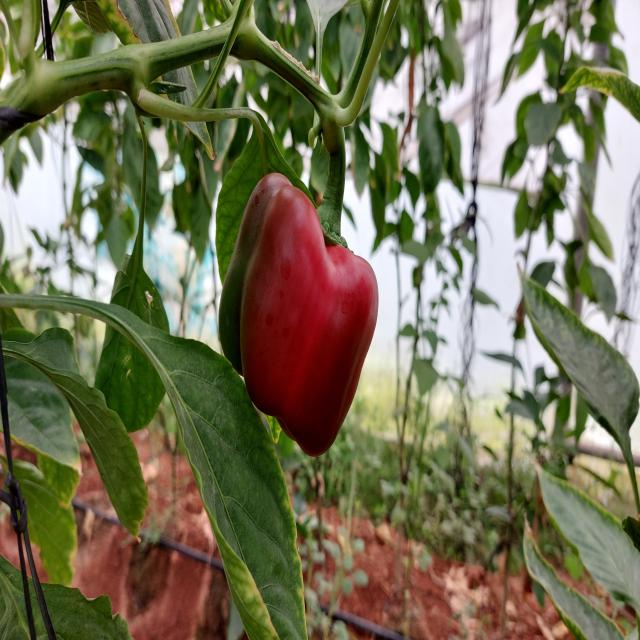Red-Ready-to-Harvest: (223, 170, 385, 454)
